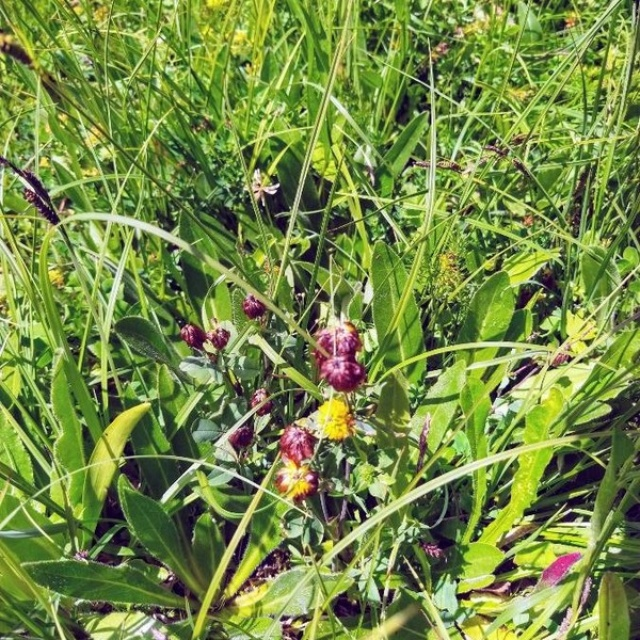obstacle: (57, 83, 544, 581)
